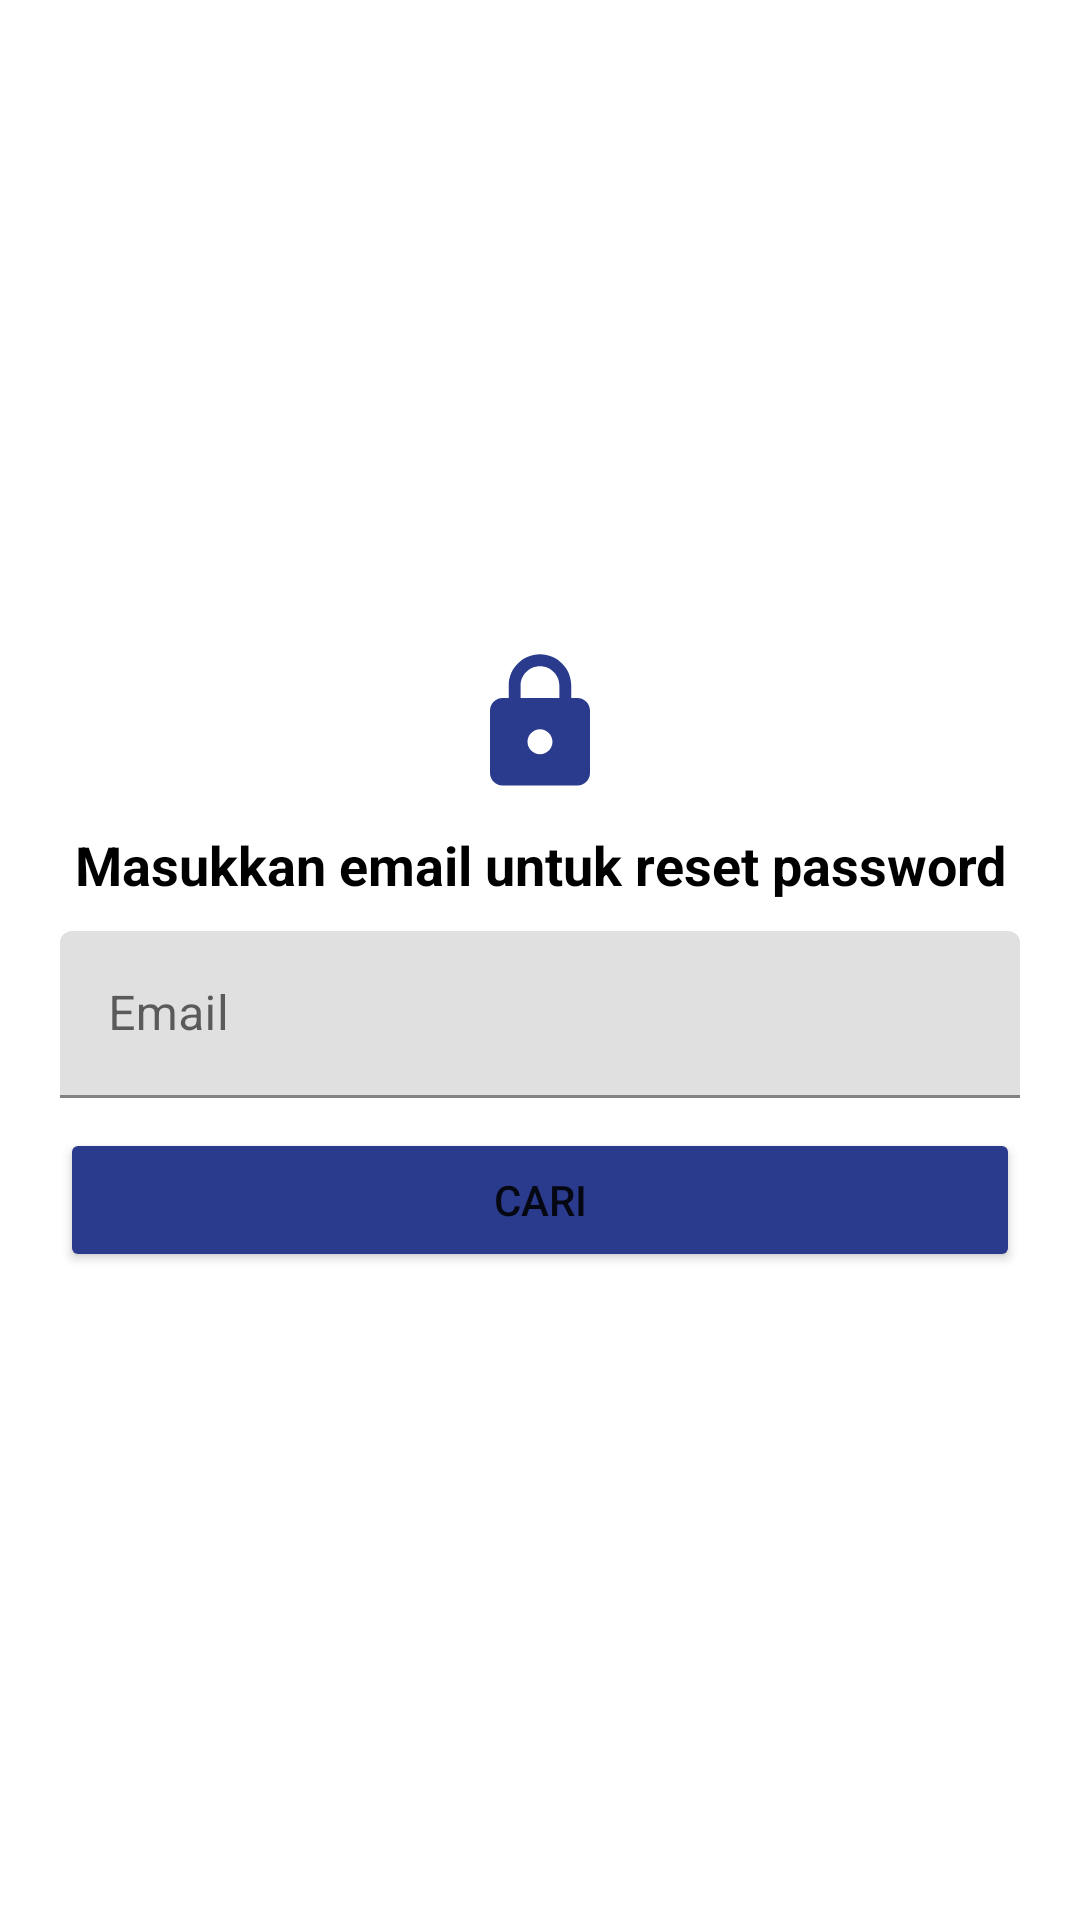

Locate icon controls on the screen. Image size 1080 × 1920, boxes as (x1, y1, x2, y2).
lock: (490, 654, 590, 786)
